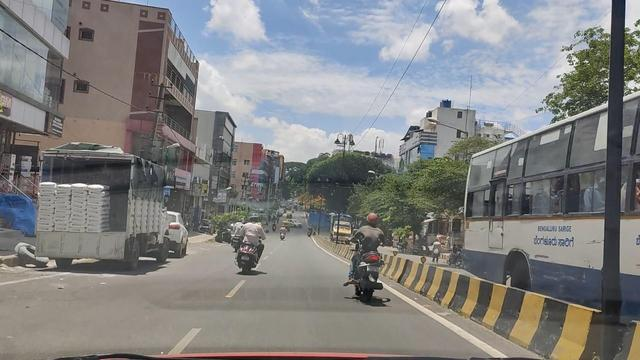HMV: (32, 139, 176, 283)
LMV: (337, 211, 398, 310), (235, 210, 268, 277)
